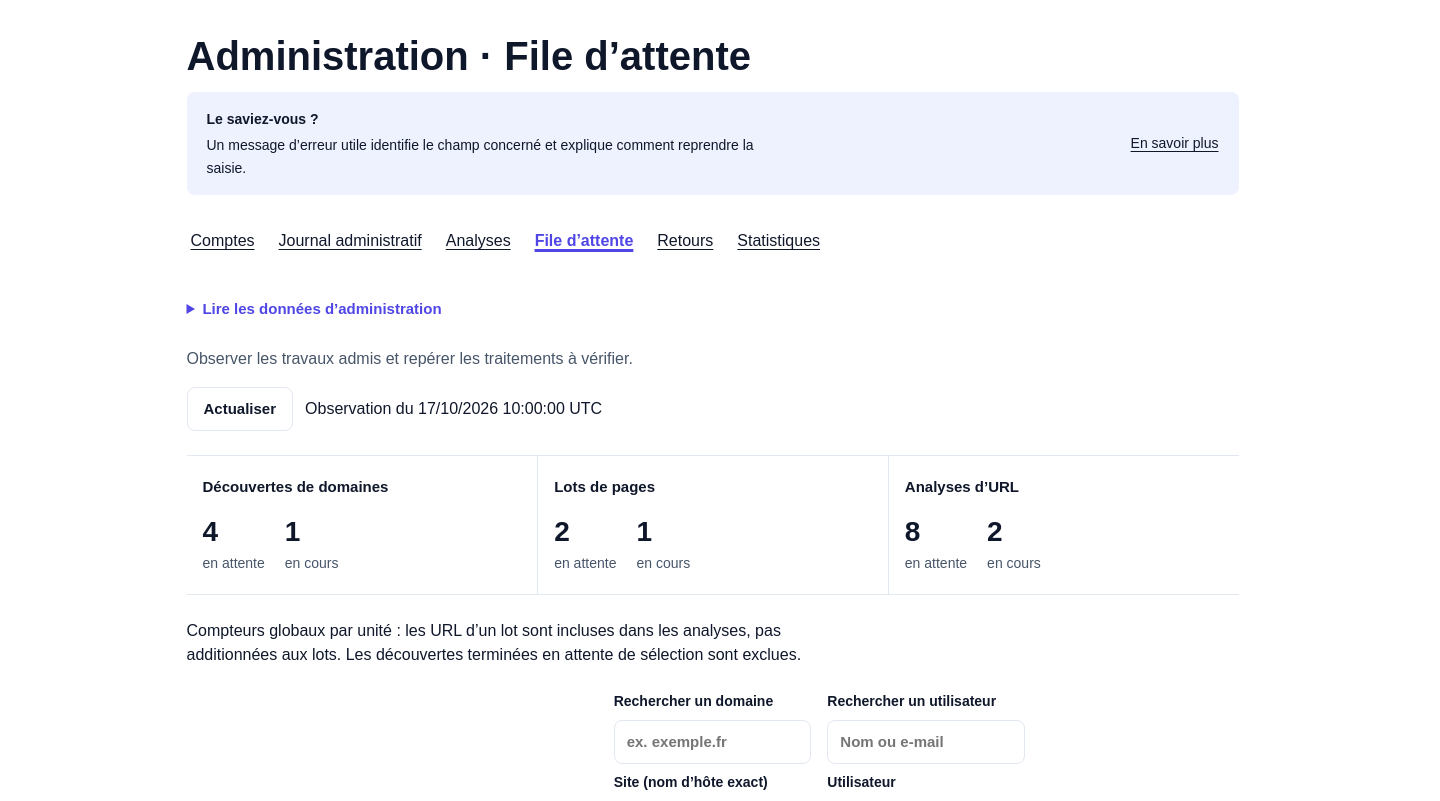
Test: clears private rows when server authorization is revoked on refresh
Click the button "Actualiser". click: point(240, 409)
box: [186,387,293,431]
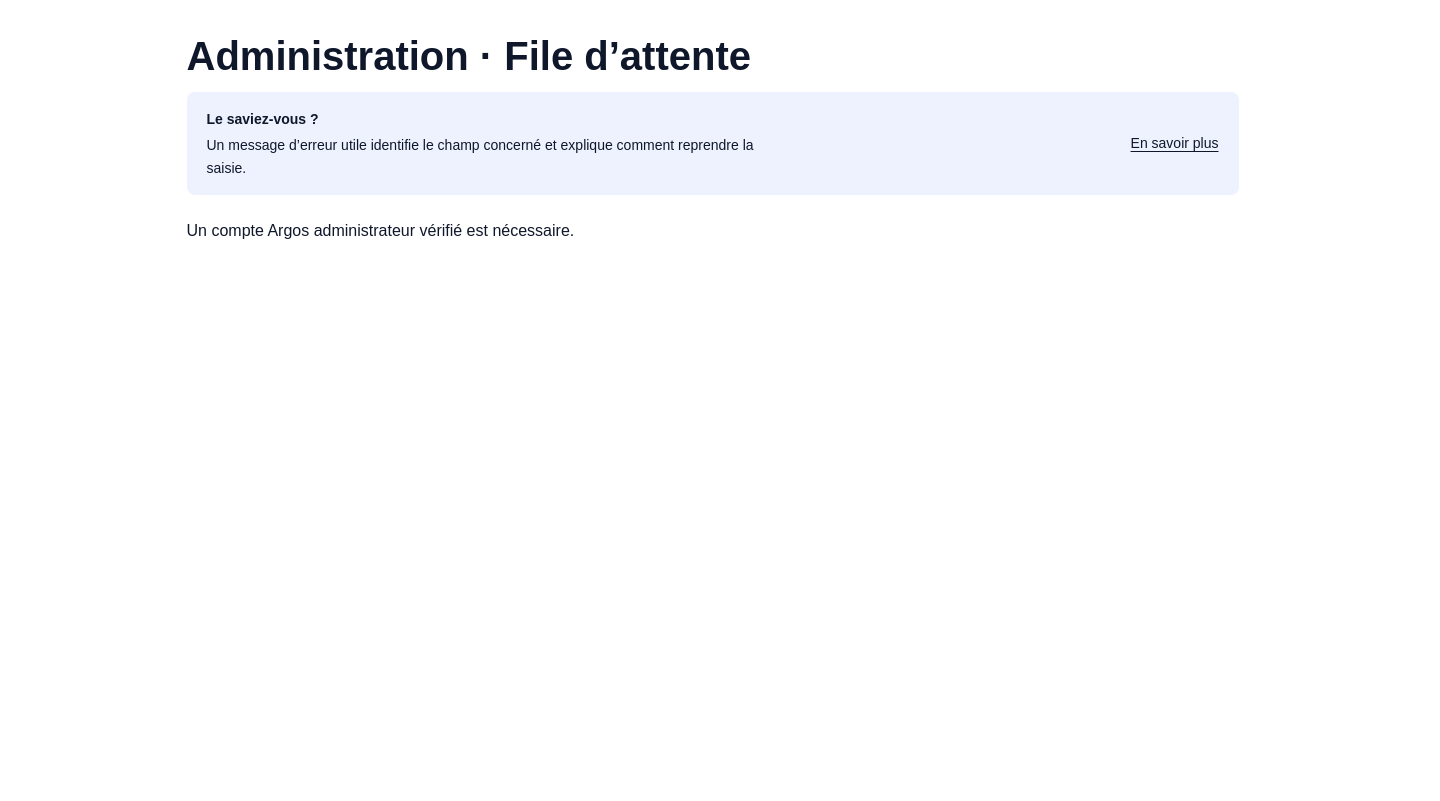
Result: the message "Un compte Argos administrateur vérifié est nécessaire." is shown at [186,222,574,239]
